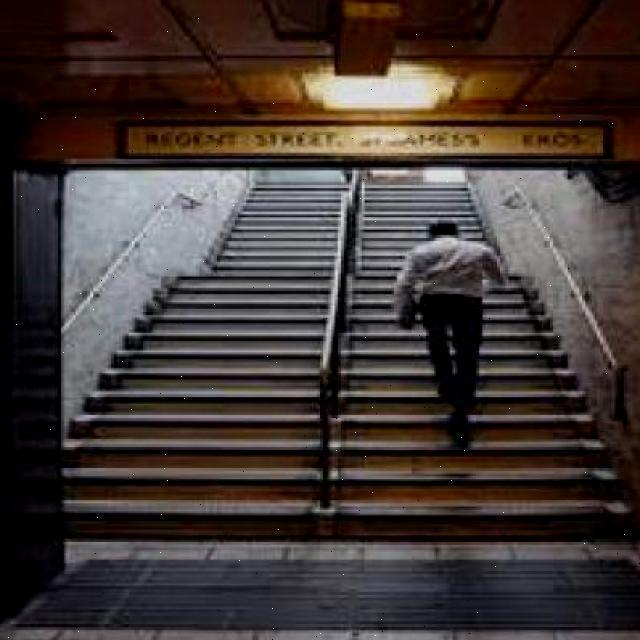stair: (117, 357, 585, 495)
